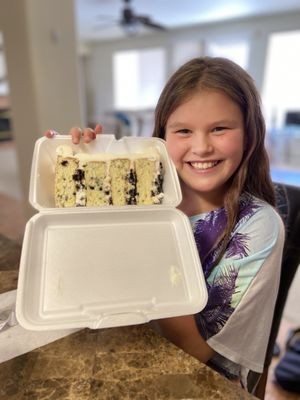sushi: (15, 125, 210, 333), (48, 132, 174, 208)
